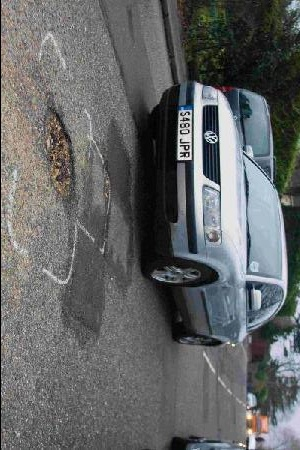pothole: (41, 104, 77, 200), (101, 160, 114, 215)
